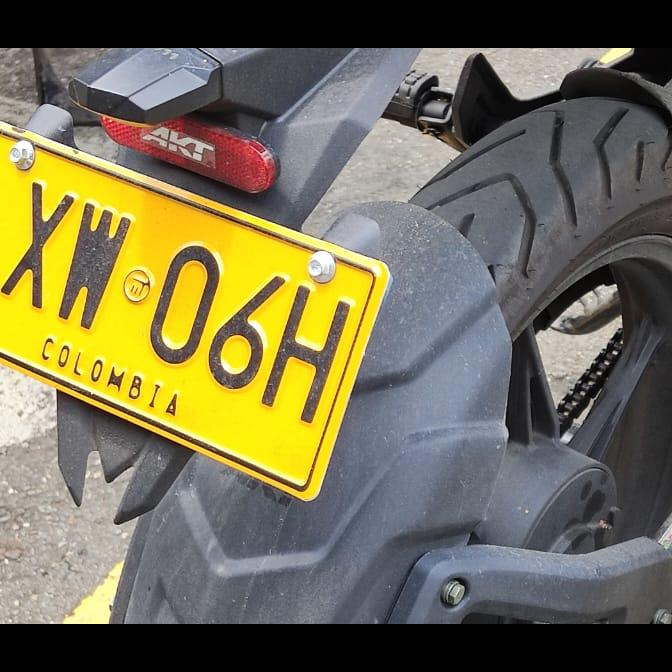plates: (0, 121, 392, 500)
